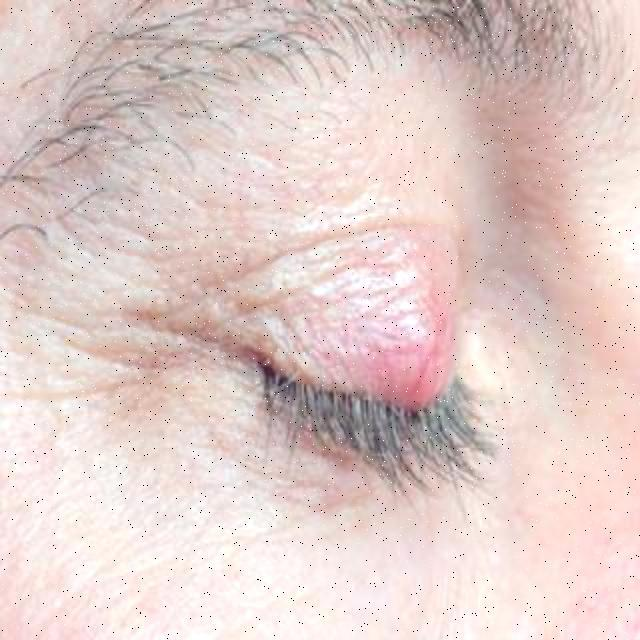Stye: (310, 265, 528, 437)
